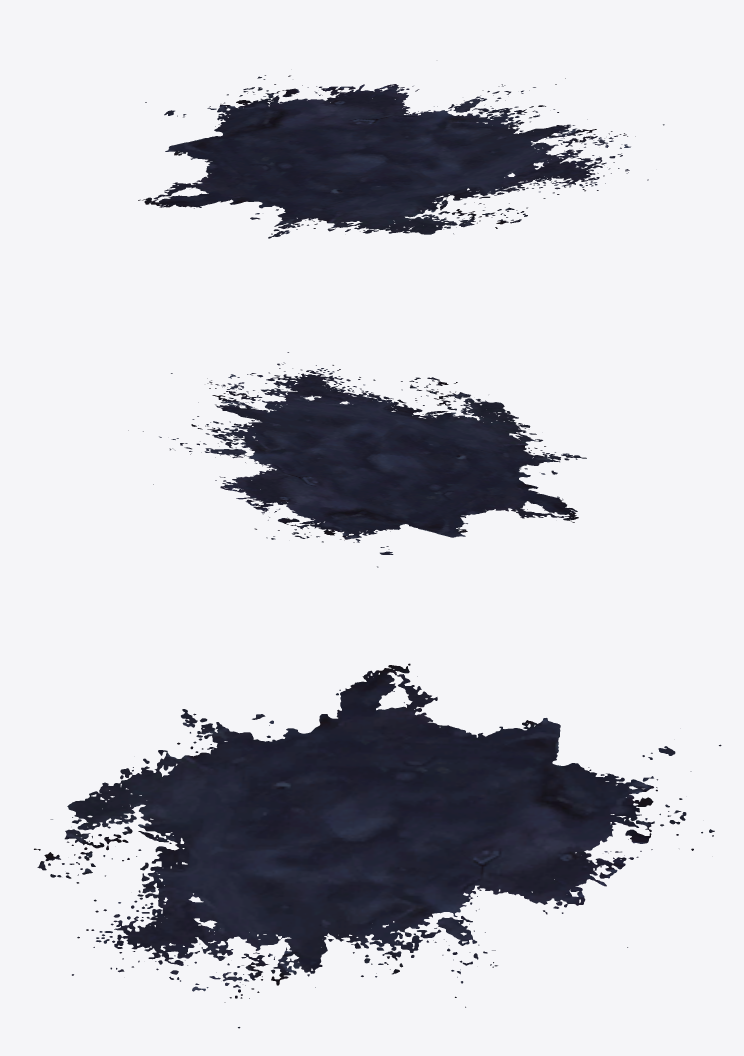
File: palace_floor_decal_01.fbx
3 renders of one model, top to bottom at view 1: azimuth 30°, elevation 25°; view 2: azimuth 150°, elevation 25°; view 3: azimuth 270°, elevation 25°, orthographic. The views are drawn at different scales.
Visible parts, largest first — view 1: palace_tileset/palace_decalss01_shadow_mat; view 2: palace_tileset/palace_decalss01_shadow_mat; view 3: palace_tileset/palace_decalss01_shadow_mat.
Part boxes in pixels (bbox=[...]): palace_tileset/palace_decalss01_shadow_mat: bbox=[138, 75, 664, 238]; palace_tileset/palace_decalss01_shadow_mat: bbox=[128, 352, 586, 567]; palace_tileset/palace_decalss01_shadow_mat: bbox=[34, 663, 721, 1028].
Size of the model in its own units: 9.66 by 0 by 7.06.
